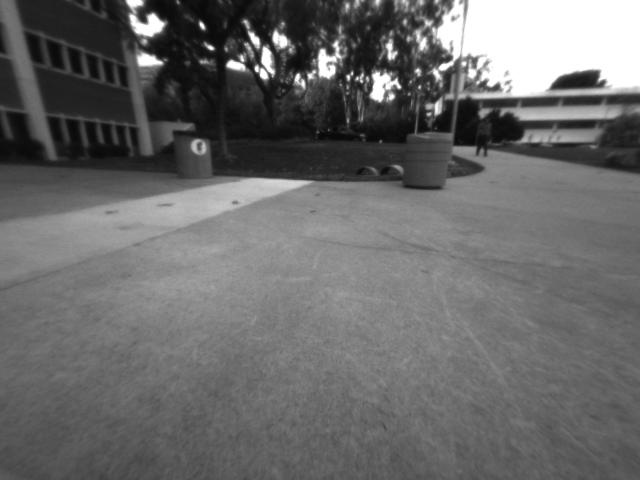trashcan: (398, 124, 456, 196), (165, 121, 219, 184)
